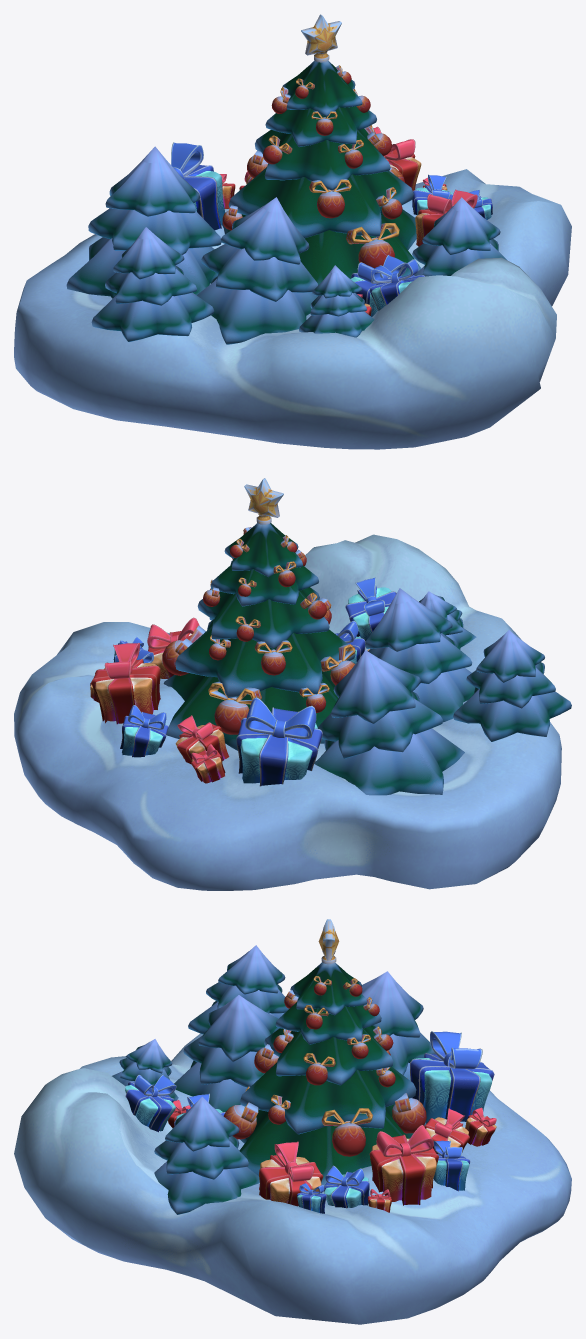
Rendered from animated_snowglobe.glb.
The picture shows the model from 3 angles, top to bottom: view 1: azimuth 30°, elevation 25°; view 2: azimuth 150°, elevation 25°; view 3: azimuth 270°, elevation 25°; orthographic projection. The views are drawn at different scales.
Visible parts, largest first — view 1: Object_4, Object_6, Object_3, Object_2, Object_5, Object_8, Object_7; view 2: Object_4, Object_6, Object_3, Object_5, Object_8, Object_2, Object_7; view 3: Object_4, Object_6, Object_3, Object_5, Object_8, Object_2, Object_7.
Part boxes in pixels (left/top/right/bottom): Object_4: left=14, top=169, right=571, bottom=449; Object_6: left=66, top=146, right=507, bottom=344; Object_3: left=217, top=60, right=421, bottom=285; Object_2: left=222, top=65, right=405, bottom=268; Object_5: left=171, top=142, right=492, bottom=316; Object_8: left=219, top=126, right=477, bottom=315; Object_7: left=301, top=14, right=341, bottom=62; Object_4: left=14, top=534, right=561, bottom=890; Object_6: left=209, top=588, right=571, bottom=795; Object_3: left=163, top=523, right=355, bottom=750; Object_5: left=113, top=577, right=396, bottom=786; Object_8: left=90, top=617, right=370, bottom=783; Object_2: left=162, top=527, right=355, bottom=734; Object_7: left=244, top=478, right=283, bottom=524; Object_4: left=14, top=1033, right=571, bottom=1324; Object_6: left=112, top=945, right=435, bottom=1214; Object_3: left=239, top=962, right=425, bottom=1185; Object_5: left=125, top=1031, right=494, bottom=1213; Object_8: left=168, top=1100, right=496, bottom=1212; Object_2: left=223, top=976, right=426, bottom=1156; Object_7: left=318, top=919, right=339, bottom=964.
Bounding box in the file's own units: 88.72 × 53.19 × 87.76.
7 materials, 7 textured.
